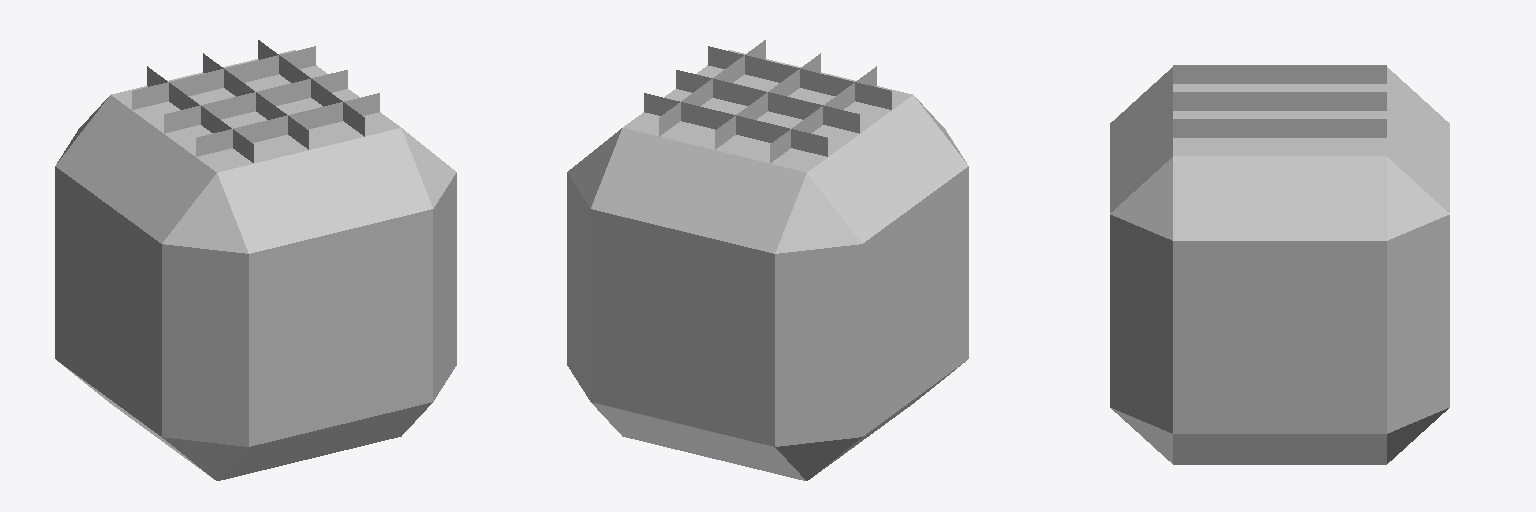
Rendered from fusion_tank.obj.
3 renders of one model, left to right at view 1: azimuth 30°, elevation 25°; view 2: azimuth 150°, elevation 25°; view 3: azimuth 270°, elevation 25°, orthographic.
Visible parts, largest first — view 1: Cube_Cube.001; view 2: Cube_Cube.001; view 3: Cube_Cube.001.
Part boxes in pixels (x1,y1,x2,y2): Cube_Cube.001: (55,40,456,480); Cube_Cube.001: (567,40,968,480); Cube_Cube.001: (1110,65,1449,464).
Bounding box in the file's own units: 1 × 1.06 × 1.